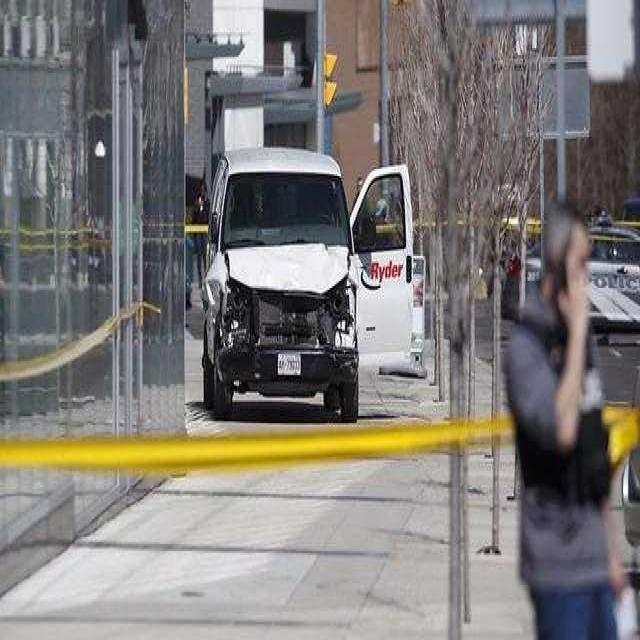Van: (202, 145, 414, 426)
